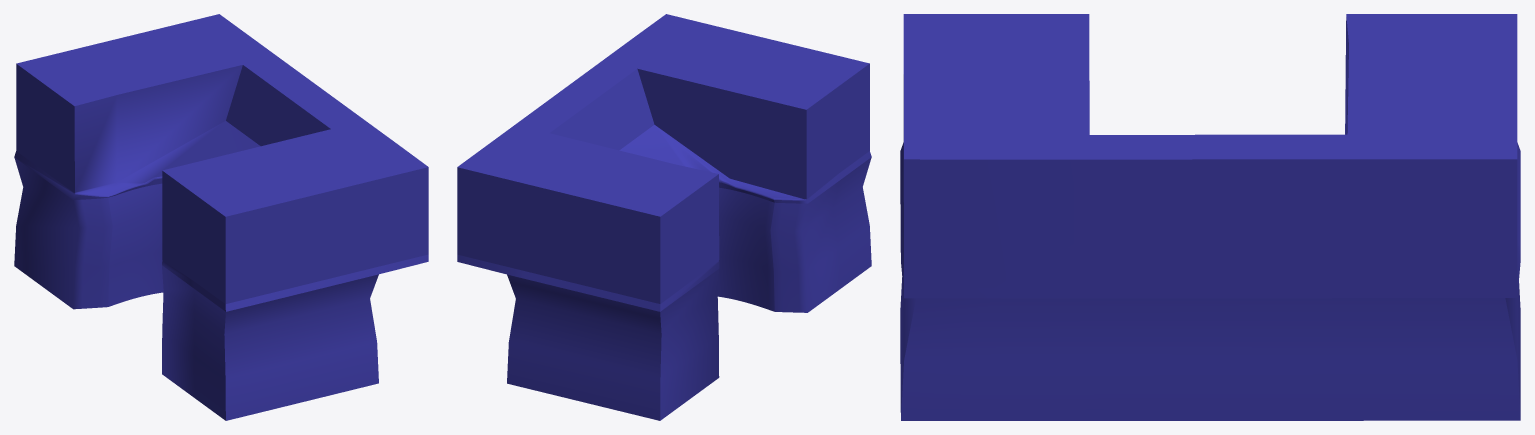
Rendered from Advertising-Hell-Terrain-City-Entrance.fbx.
3 views of the same model, side by side, from view 1: azimuth 30°, elevation 25°; view 2: azimuth 150°, elevation 25°; view 3: azimuth 270°, elevation 25° (orthographic). The views are drawn at different scales.
Parts seen in each view (by area): view 1: Advertising-Hell-Terrain-City-Entrance; view 2: Advertising-Hell-Terrain-City-Entrance; view 3: Advertising-Hell-Terrain-City-Entrance.
Part boxes in pixels (left/top/right/bottom): Advertising-Hell-Terrain-City-Entrance: left=14, top=14, right=428, bottom=420; Advertising-Hell-Terrain-City-Entrance: left=457, top=14, right=871, bottom=420; Advertising-Hell-Terrain-City-Entrance: left=900, top=14, right=1520, bottom=420.
Bounding box in the file's own units: 10765 × 10225 × 19309.
